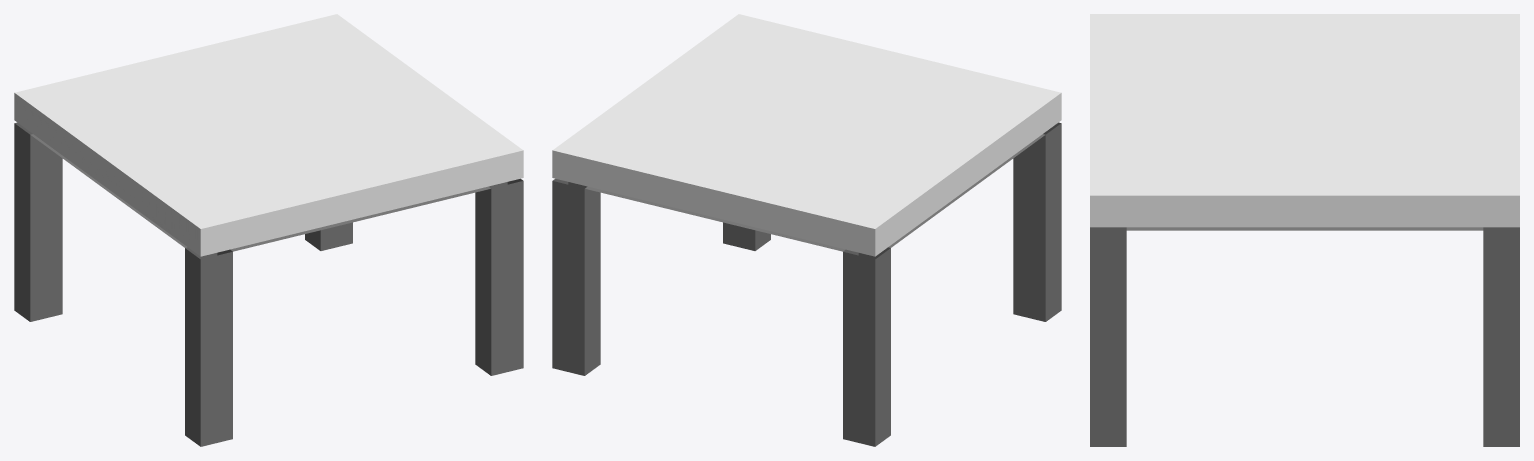
File: Desk.fbx
3 views of the same model, side by side, from view 1: azimuth 30°, elevation 25°; view 2: azimuth 150°, elevation 25°; view 3: azimuth 270°, elevation 25° (orthographic). The views are drawn at different scales.
Visible parts, largest first — view 1: Cube.001; view 2: Cube.001; view 3: Cube.001.
Boxes of the visible parts, <box> form: Cube.001: <box>14,14,523,446</box>; Cube.001: <box>552,14,1061,446</box>; Cube.001: <box>1090,14,1519,446</box>.
Bounding box in the file's own units: 100 × 64.5 × 100.
